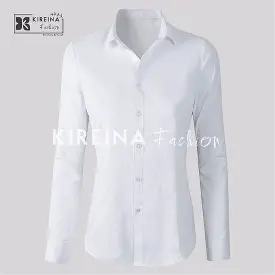kemeja_benar: (66, 22, 229, 250)
